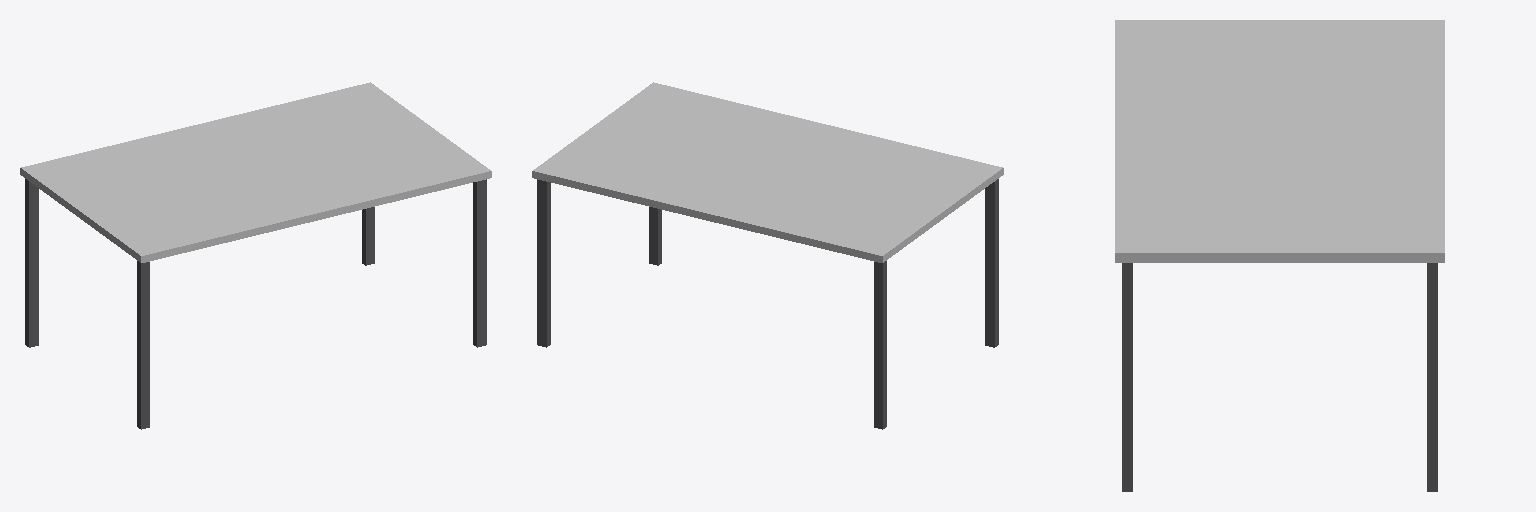
The robot description file, URDF, robot "conference_table":
<robot name="conference_table">
  <link name="base_link">
    <!-- Tabletop -->
    <collision>
      <origin xyz="0 0 0.715"/>
      <geometry>
        <box size="1.52 0.91 0.03"/>
      </geometry>
    </collision>
    <visual>
      <origin xyz="0 0 0.715"/>
      <geometry>
        <box size="1.52 0.91 0.03"/>
      </geometry>
      <material name="gray">
        <color rgba="0.8 0.8 0.8 1.0"/>
      </material>
    </visual>
    <!-- left back table legs -->
    <collision>
      <origin xyz="-0.73 0.42 0.35"/>
      <geometry>
        <box size="0.04 0.03 0.70"/>
      </geometry>
    </collision>
    <visual>
      <origin xyz="-0.73 0.42 0.35"/>
      <geometry>
        <box size="0.04 0.03 0.70"/>
      </geometry>
      <material name="dark_gray">
        <color rgba="0.4 0.4 0.4 1.0"/>
      </material>
    </visual>
    <!-- right back table legs -->
    <collision>
      <origin xyz="0.73 0.42 0.35"/>
      <geometry>
        <box size="0.04 0.03 0.70"/>
      </geometry>
    </collision>
    <visual>
      <origin xyz="0.73 0.42 0.35"/>
      <geometry>
        <box size="0.04 0.03 0.70"/>
      </geometry>
      <material name="dark_gray">
        <color rgba="0.4 0.4 0.4 1.0"/>
      </material>
    </visual>
    <!-- left front table legs -->
    <collision>
      <origin xyz="-0.73 -0.42 0.35"/>
      <geometry>
        <box size="0.04 0.03 0.70"/>
      </geometry>
    </collision>
    <visual>
      <origin xyz="-0.73 -0.42 0.35"/>
      <geometry>
        <box size="0.04 0.03 0.70"/>
      </geometry>
      <material name="dark_gray">
        <color rgba="0.4 0.4 0.4 1.0"/>
      </material>
    </visual>
    <!-- right front table legs -->
    <collision>
      <origin xyz="0.73 -0.42 0.35"/>
      <geometry>
        <box size="0.04 0.03 0.70"/>
      </geometry>
    </collision>
    <visual>
      <origin xyz="0.73 -0.42 0.35"/>
      <geometry>
        <box size="0.04 0.03 0.70"/>
      </geometry>
      <material name="dark_gray">
        <color rgba="0.4 0.4 0.4 1.0"/>
      </material>
    </visual>
  </link>
</robot>

--- What the picture shows (computed from the rendered views, not written in the file) ---
The picture shows the robot from 3 angles, left to right: view 1: azimuth 30°, elevation 25°; view 2: azimuth 150°, elevation 25°; view 3: azimuth 270°, elevation 25°; orthographic projection.
Robot: conference_table — 1 links, 0 joints (none); root link base_link; default pose: every joint at zero.
Visible links, largest first — view 1: base_link; view 2: base_link; view 3: base_link.
Boxes of the visible links, left/top/right/bottom form: base_link: left=20, top=82, right=491, bottom=429; base_link: left=532, top=82, right=1003, bottom=429; base_link: left=1115, top=20, right=1444, bottom=491.
Bounding box of the posed robot: 1.52 × 0.91 × 0.73 m (x, y, z).
Geometry: primitives only (box / cylinder / sphere), no mesh files.